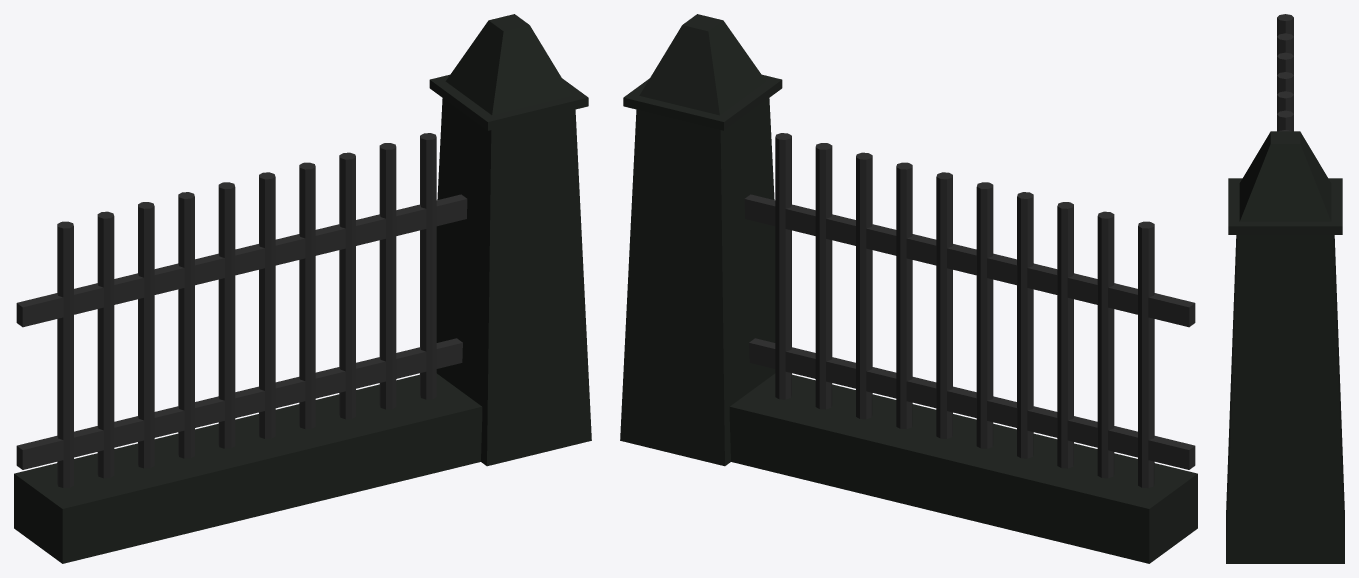
File: fence.glb
3 views of the same model, side by side, from view 1: azimuth 30°, elevation 25°; view 2: azimuth 150°, elevation 25°; view 3: azimuth 270°, elevation 25° (orthographic).
Parts seen in each view (by area): view 1: fence; view 2: fence; view 3: fence.
Part boxes in pixels (<box>): fence: <box>14,14,591,563</box>; fence: <box>620,14,1197,563</box>; fence: <box>1226,14,1344,563</box>.
Bounding box in the file's own units: 2.81 × 2.03 × 0.5447.
1 material, 1 textured.
